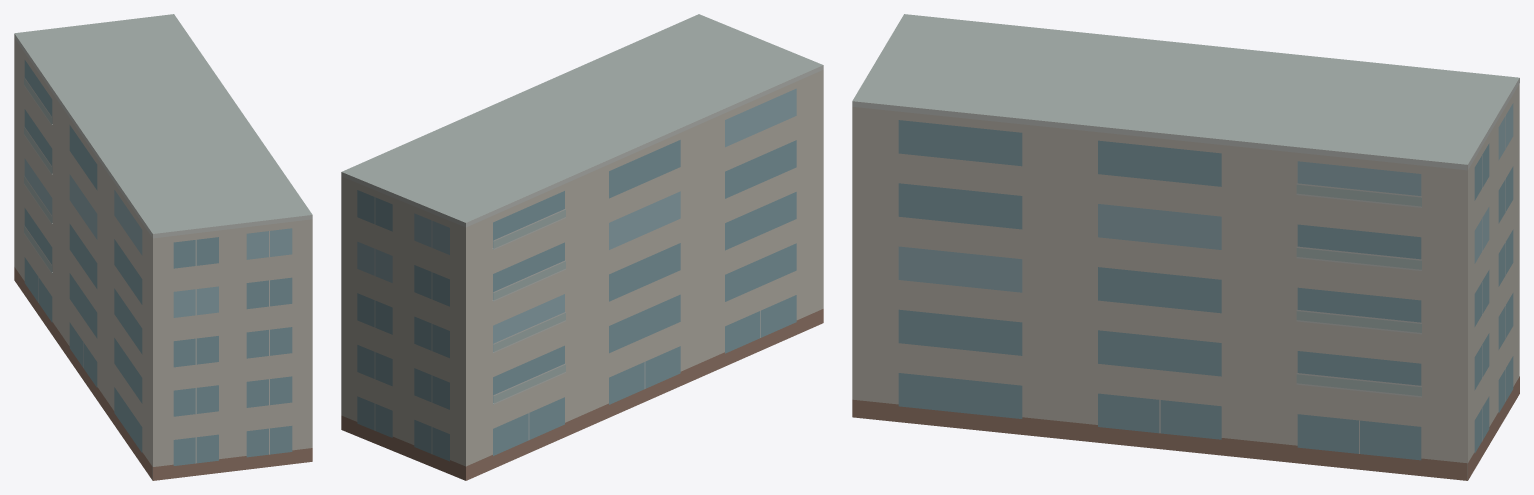
The model's file is survey-upis-33046968.glb.
The picture shows the model from 3 angles, left to right: view 1: azimuth 30°, elevation 25°; view 2: azimuth 150°, elevation 25°; view 3: azimuth 270°, elevation 25°; orthographic projection. The views are drawn at different scales.
Visible parts, largest first — view 1: survey-upis-33046968.tmp; view 2: survey-upis-33046968.tmp; view 3: survey-upis-33046968.tmp.
Boxes of the visible parts, x1=… form: survey-upis-33046968.tmp: x1=14, y1=14, x2=312, y2=480; survey-upis-33046968.tmp: x1=341, y1=14, x2=823, y2=480; survey-upis-33046968.tmp: x1=852, y1=14, x2=1519, y2=480.
Bounding box in the file's own units: 14.13 × 13.8 × 26.42.
